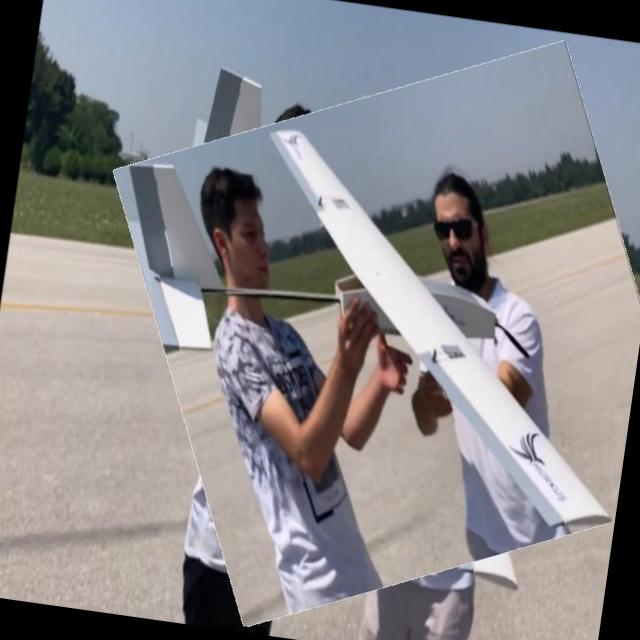UAV: (95, 70, 601, 526)
